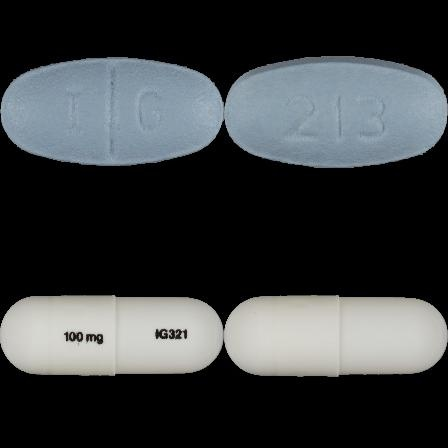31722-213: (0, 0, 224, 224)
